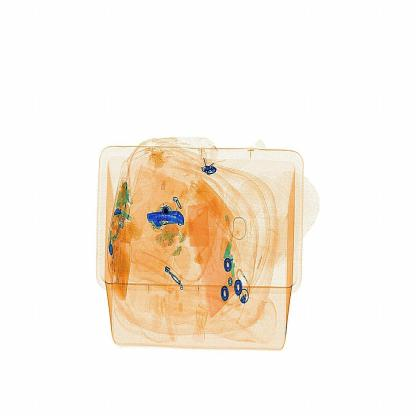knife: (143, 200, 195, 238)
